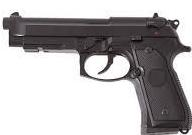gun: (1, 1, 192, 135)
